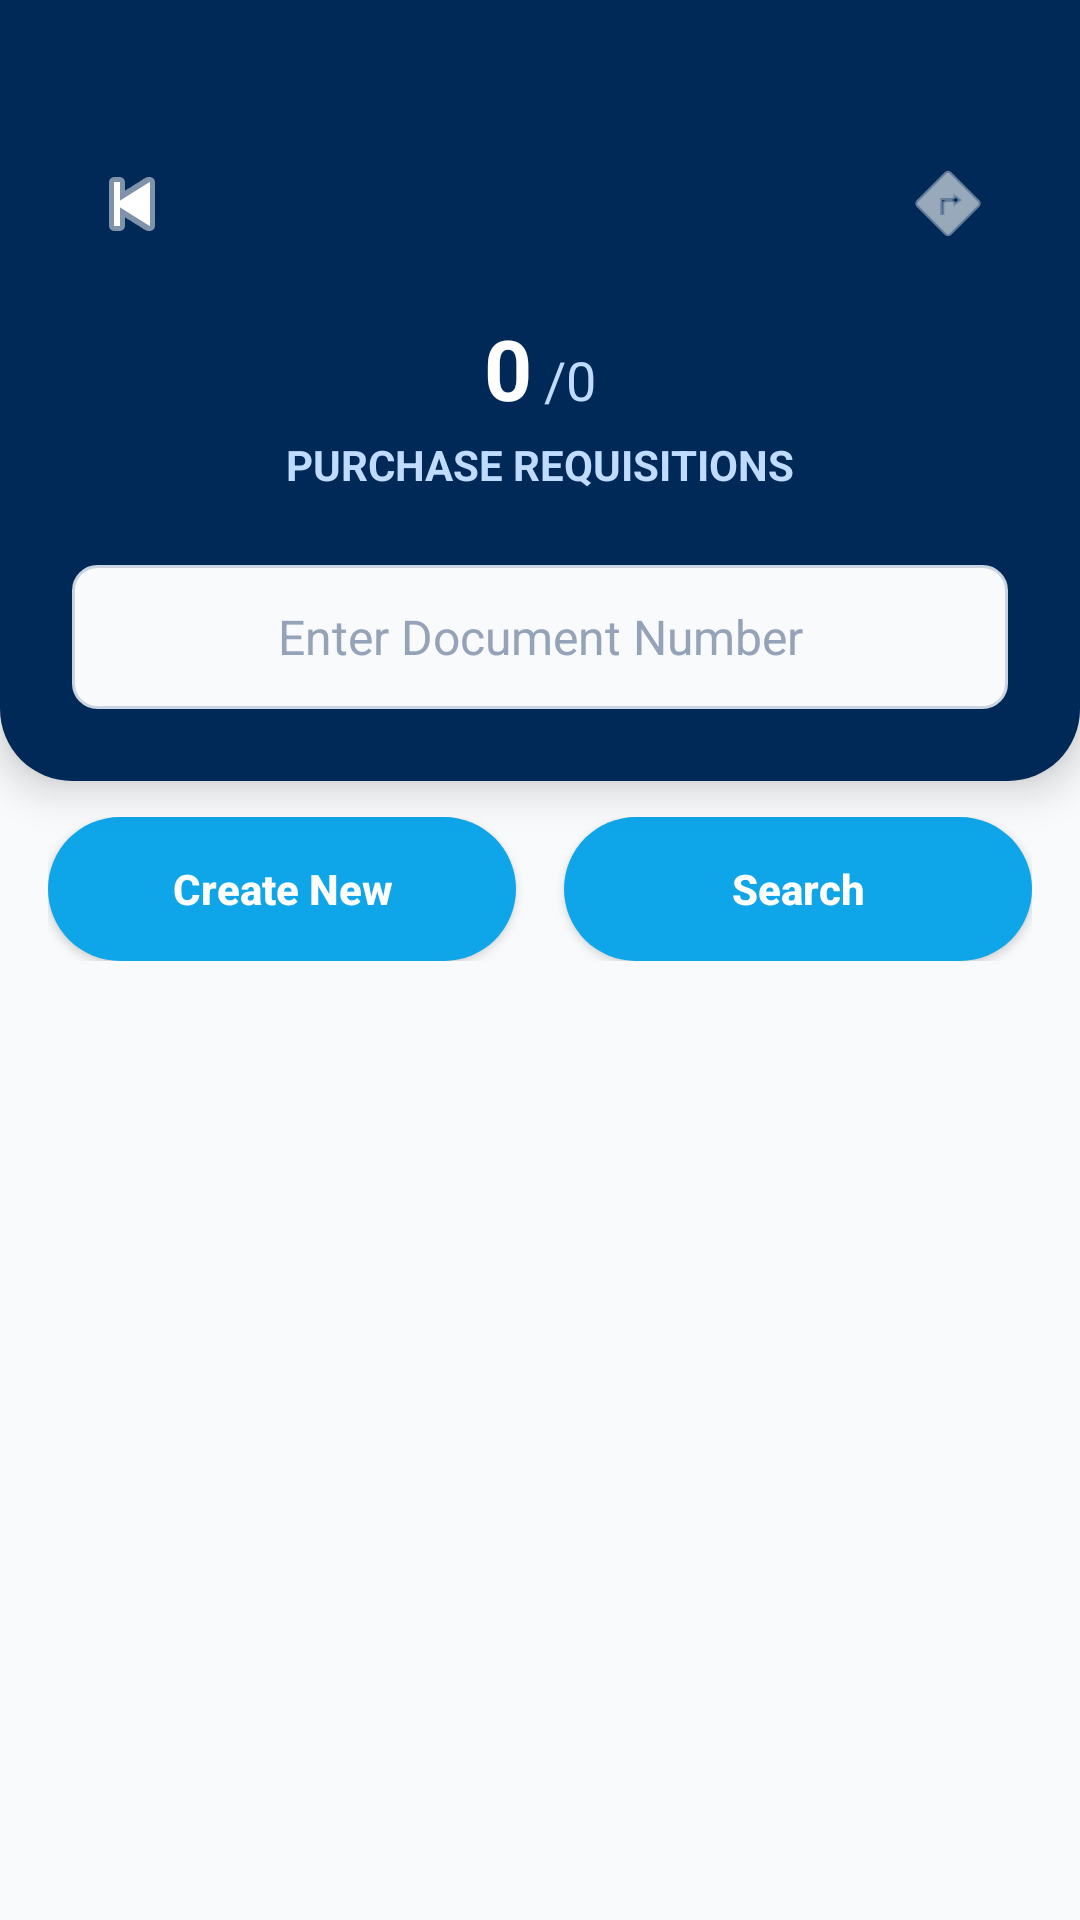

Icons on this 1080px×1920px Android screen, each with the point to tap as point (x, y):
Back: point (132, 204)
